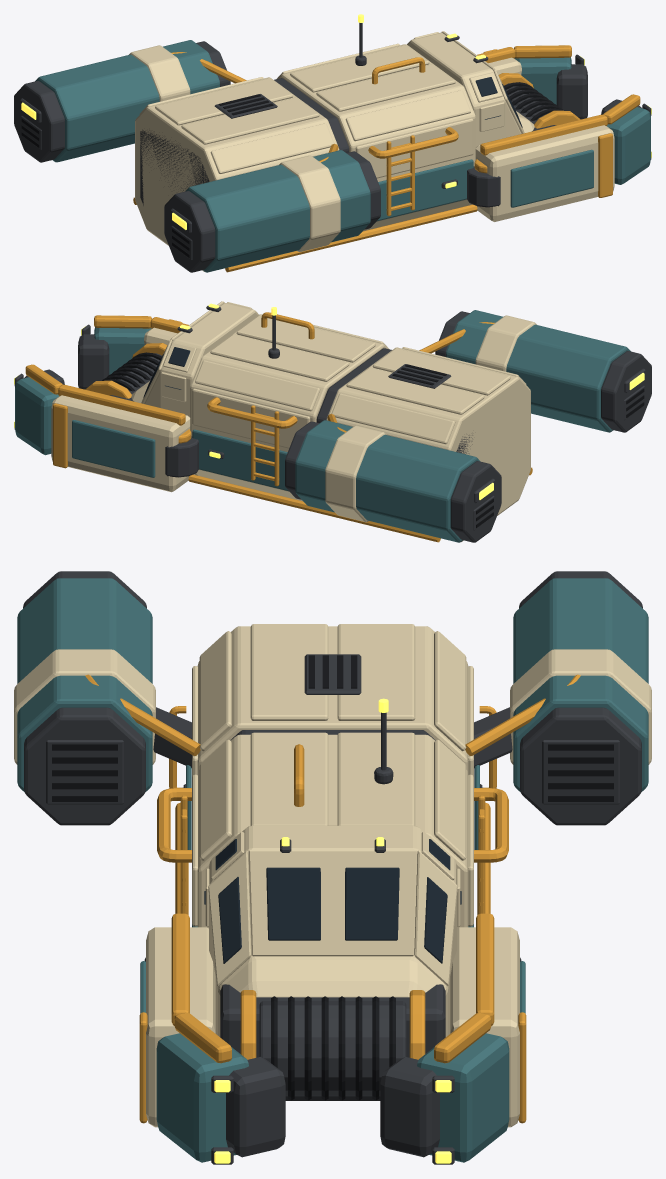
The model's file is tug.glb.
The picture shows the model from 3 angles, top to bottom: view 1: azimuth 30°, elevation 25°; view 2: azimuth 150°, elevation 25°; view 3: azimuth 270°, elevation 25°; orthographic projection. The views are drawn at different scales.
Parts seen in each view (by area): view 1: hull body, drive body, claw body; view 2: hull body, drive body, claw body; view 3: hull body, drive body, claw body.
Part boxes in pixels (x1,y1,x2,y2): hull body: (133, 23, 534, 272); drive body: (14, 40, 380, 272); claw body: (467, 45, 651, 221); hull body: (131, 301, 532, 542); drive body: (285, 310, 651, 542); claw body: (14, 315, 198, 492); hull body: (157, 624, 508, 1036); drive body: (14, 571, 651, 825); claw body: (139, 913, 526, 1164).
Bounding box in the file's own units: 8.67 × 2.94 × 5.66.
